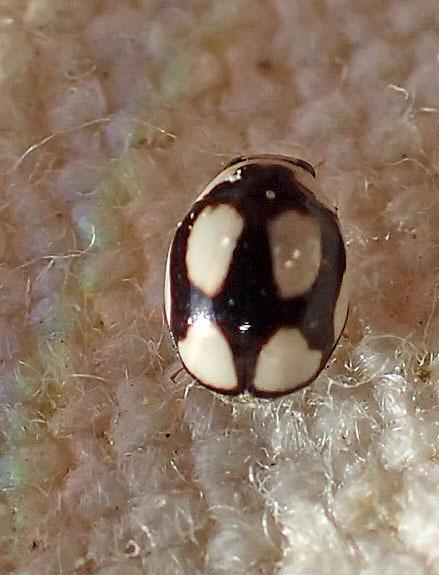ladybug: (163, 151, 358, 408)
